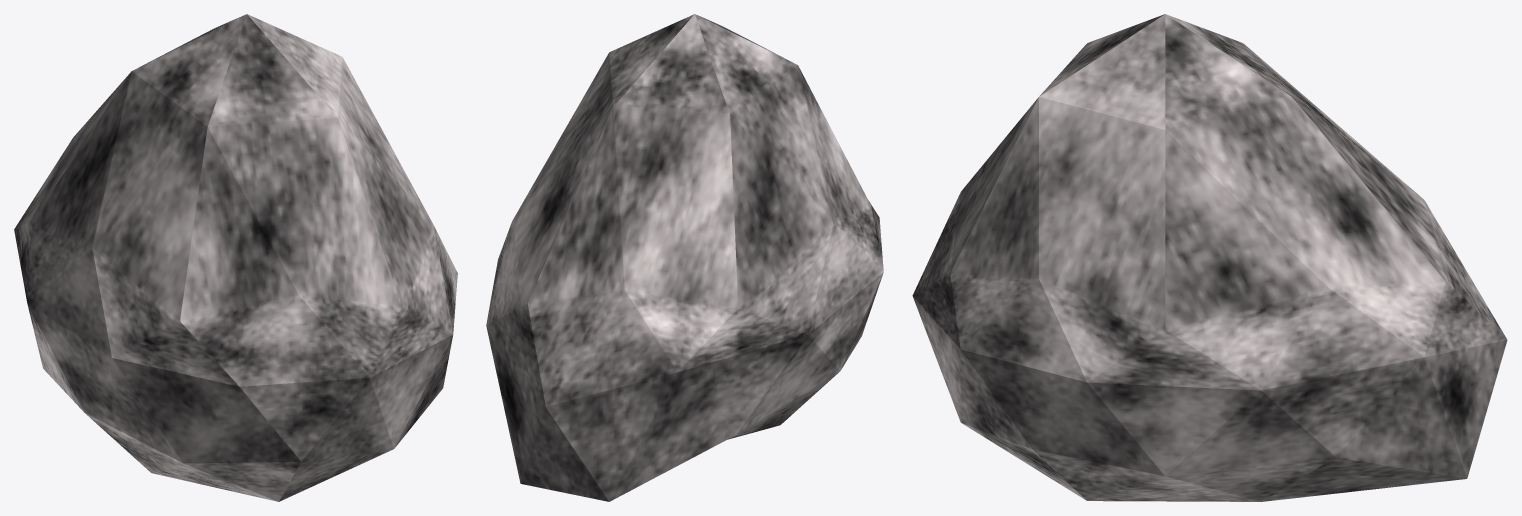
The model's file is rocks.glb.
3 views of the same model, side by side, from view 1: azimuth 30°, elevation 25°; view 2: azimuth 150°, elevation 25°; view 3: azimuth 270°, elevation 25° (orthographic). The views are drawn at different scales.
Parts seen in each view (by area): view 1: rock; view 2: rock; view 3: rock.
Boxes of the visible parts, x1,y1,x2,y2 form: rock: (14,14,457,501); rock: (486,14,883,501); rock: (912,14,1507,501).
Size of the model in its own units: 1.9 by 2.31 by 2.76.
Materials: 1 (1 with a texture image).
